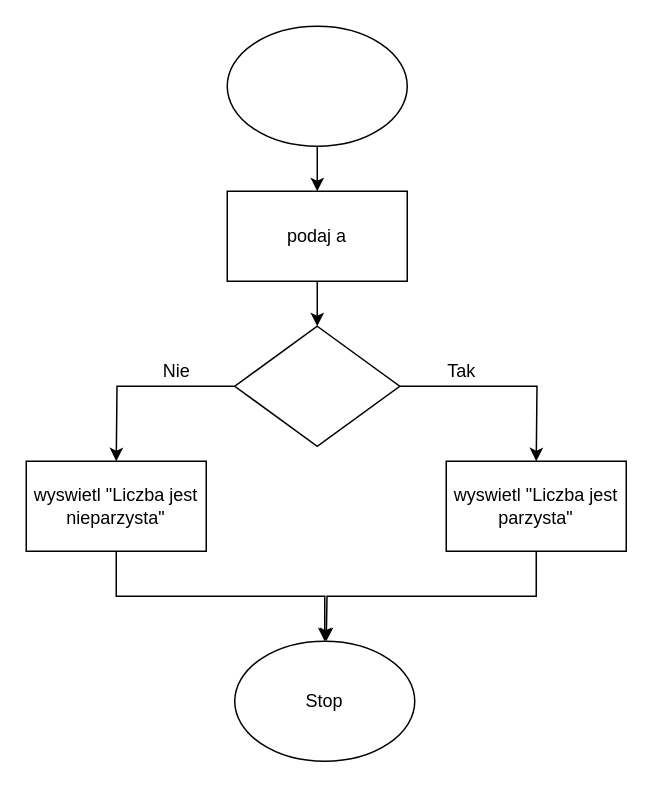
The diagram is 653 pixels wide and 788 high, and some of its shapes have lost their labels. Here are the shapes that lost their labels. From the top down, the box of each, then its label:
(226, 25, 407, 146): Start
(233, 325, 400, 446): a mod 2 = 0
